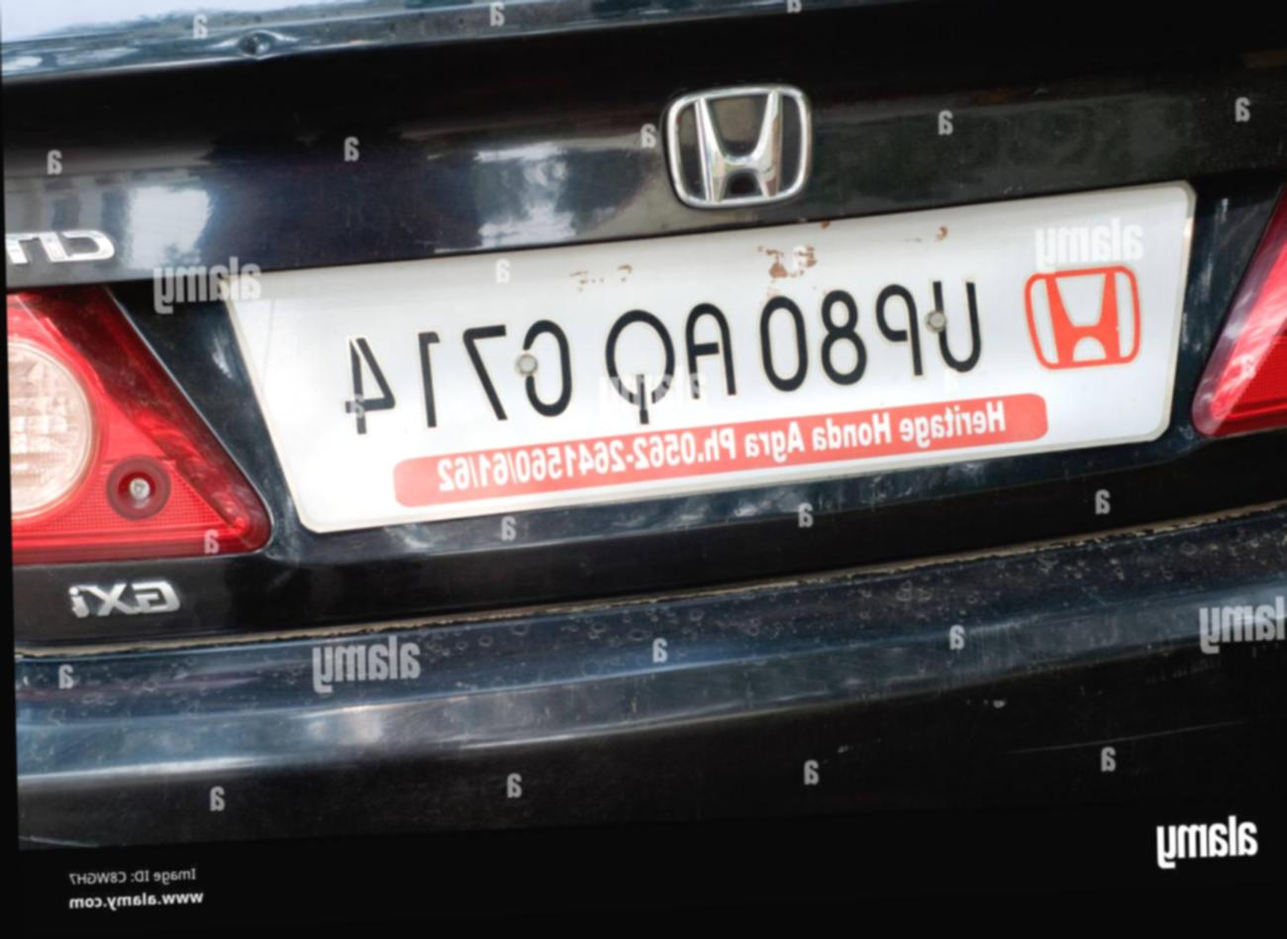License_Plate: (239, 161, 1216, 559)
